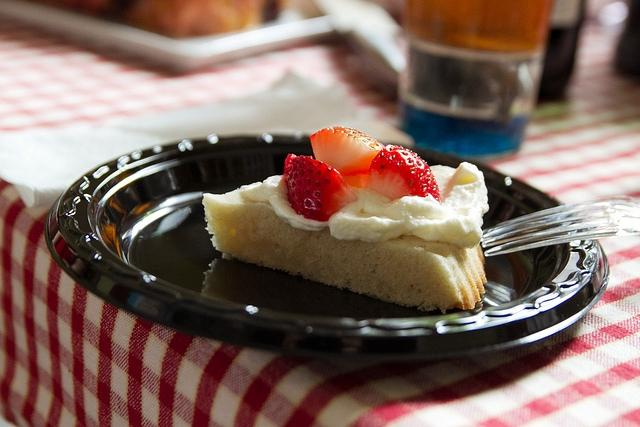strawberry: (284, 153, 359, 222), (309, 126, 386, 189), (364, 144, 442, 202)
